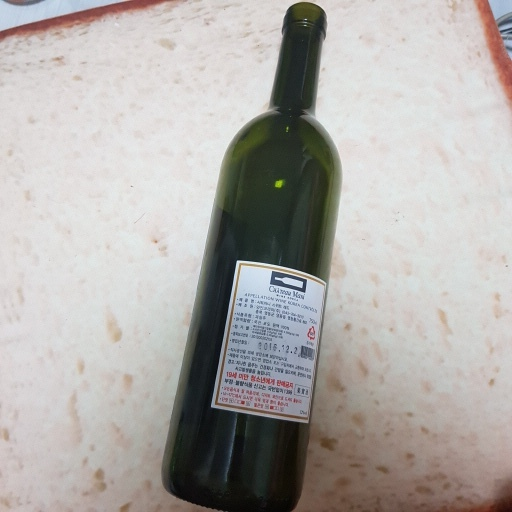Glass_2: (160, 4, 344, 512)
